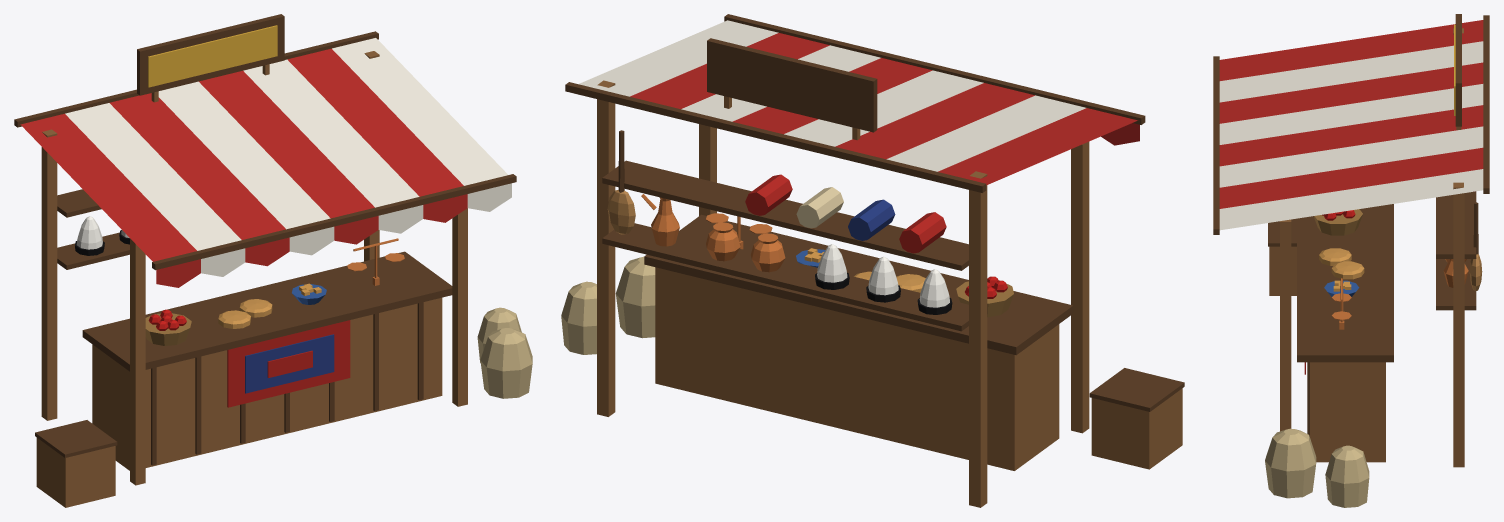
The model's file is Bazaar_Stall.obj.
The picture shows the model from 3 angles, left to right: view 1: azimuth 30°, elevation 25°; view 2: azimuth 150°, elevation 25°; view 3: azimuth 270°, elevation 25°; orthographic projection. The views are drawn at different scales.
Visible parts, largest first — view 1: Bazaar_Stall; view 2: Bazaar_Stall; view 3: Bazaar_Stall.
Part boxes in pixels (<box>): Bazaar_Stall: <box>14,14,532,507</box>; Bazaar_Stall: <box>561,14,1184,507</box>; Bazaar_Stall: <box>1213,14,1489,507</box>.
Size of the model in its own units: 4.46 by 2.97 by 2.2.
